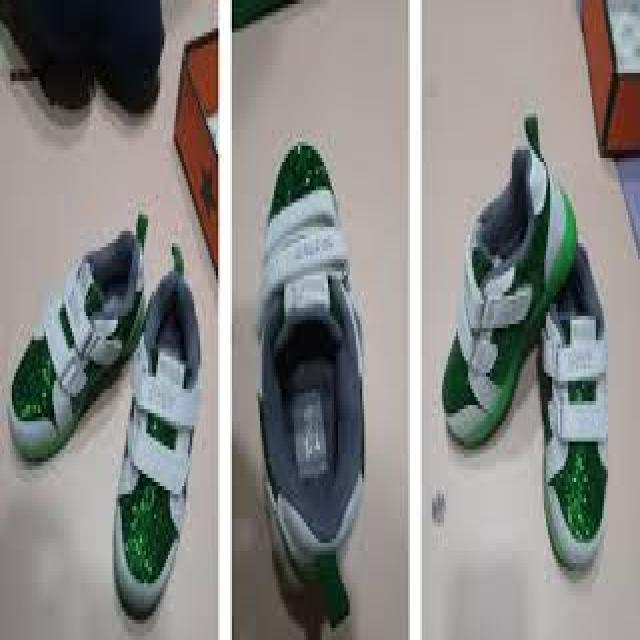shoes: (254, 142, 360, 620), (440, 141, 580, 462), (7, 226, 150, 459), (121, 275, 201, 635), (535, 239, 614, 582)
